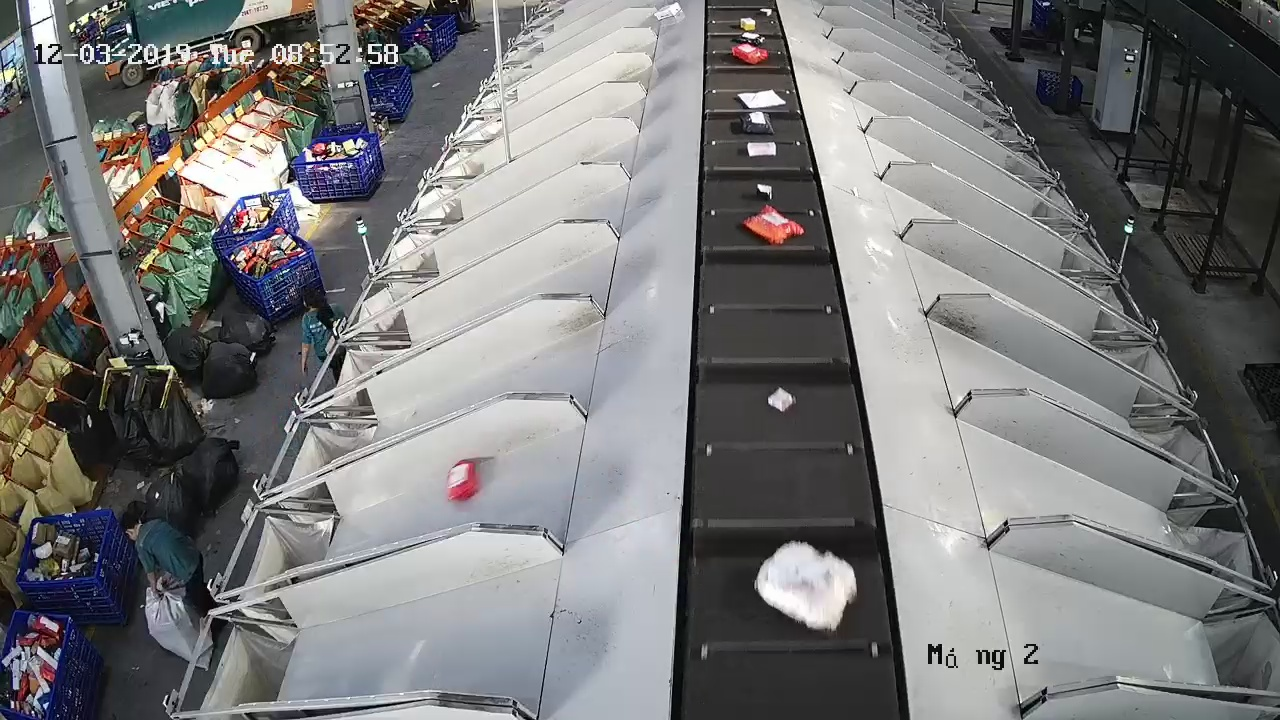parcel: (753, 540, 860, 634), (741, 203, 806, 247), (445, 458, 481, 504), (765, 383, 798, 415), (738, 111, 777, 136), (746, 139, 779, 158), (755, 182, 774, 201)
